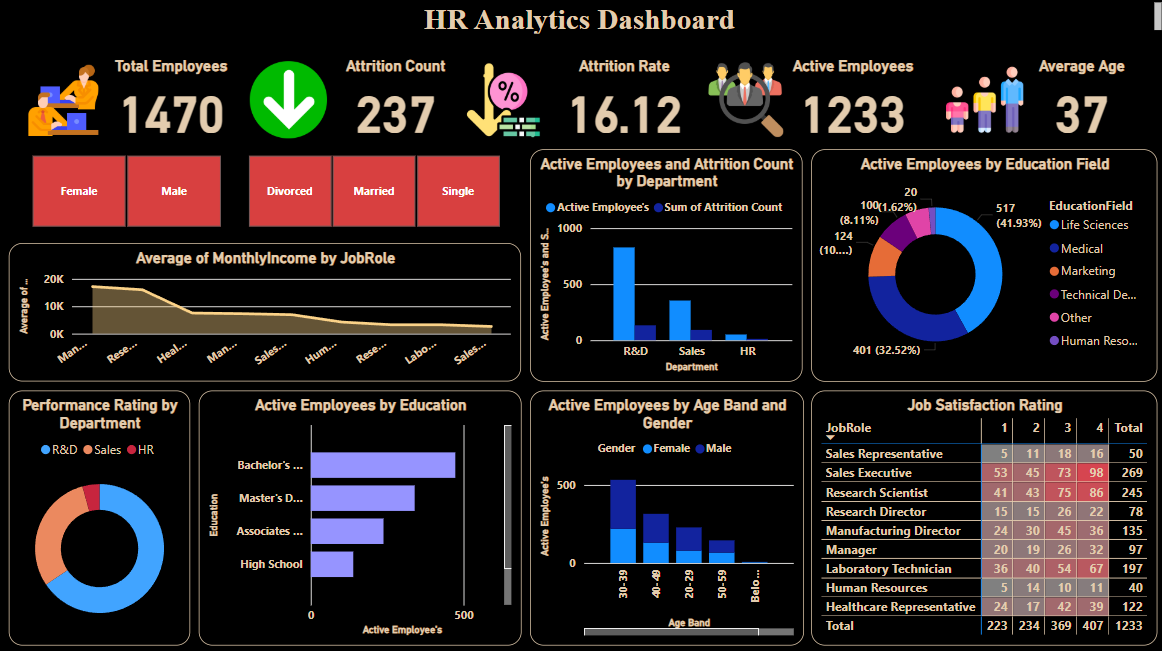

The dashboard page shown, as its layout file describes it:
{"tool":"powerbi","page":{"name":"Page 1","canvas":[1280,720],"ordinal":0},"visuals":[{"type":"card","title":"Total Employees","fields":{"Values":["Sum(HR_Analytics.EmployeeCount)"]},"box":[109.8,64.5,156.4,94.7],"z":0,"group":"g1"},{"type":"clusteredColumnChart","title":"Active Employees and Attrition Count by Department","fields":{"Category":["HR_Analytics.Department"],"Y":["HR_Analytics.Active Employee's","Sum(HR_Analytics.Attrition Count)"]},"box":[581.8,166,299.1,255.2],"z":0},{"type":"card","title":"Attrition Count","fields":{"Values":["Sum(HR_Analytics.Attrition Count)"]},"box":[351.3,64.5,166,94.7],"z":1000,"group":"g1"},{"type":"donutChart","title":"Active Employees by Education Field","fields":{"Y":["HR_Analytics.Active Employee's"],"Category":["HR_Analytics.EducationField"]},"box":[890.6,166,380.1,255.2],"z":1000},{"type":"card","title":"Attrition Rate","fields":{"Values":["HR_Analytics.Attrition Rate"]},"box":[602.4,64.5,166,94.7],"z":2000,"group":"g1"},{"type":"columnChart","title":"Active Employees by Age Band and Gender","fields":{"Category":["HR_Analytics.Age Band"],"Y":["HR_Analytics.Active Employee's"],"Series":["HR_Analytics.Gender"]},"box":[581.8,430.9,300.5,279.9],"z":2000},{"type":"card","title":"Active Employees","fields":{"Values":["HR_Analytics.Active Employee's"]},"box":[853.5,64.5,166,94.7],"z":3000,"group":"g1"},{"type":"pivotTable","title":"Job Satisfaction Rating","fields":{"Rows":["HR_Analytics.JobRole"],"Columns":["HR_Analytics.JobSatisfaction"],"Values":["HR_Analytics.Active Employee's"]},"box":[890.6,430.9,380.1,279.9],"z":3000},{"type":"card","title":"Average Age","fields":{"Values":["Avg(HR_Analytics.Age)"]},"box":[1104.7,64.5,166,94.7],"z":4000,"group":"g1"},{"type":"donutChart","title":" Performance Rating by Department","fields":{"Y":["Sum(HR_Analytics.PerformanceRating)"],"Category":["HR_Analytics.Department"]},"box":[9.6,430.9,199,279.9],"z":4000},{"type":"clusteredBarChart","title":"Active Employees by Education","fields":{"Category":["HR_Analytics.Education"],"Y":["HR_Analytics.Active Employee's"]},"box":[218.2,430.9,354,279.9],"z":5000},{"type":"areaChart","fields":{"Category":["HR_Analytics.JobRole"],"Y":["Avg(HR_Analytics.MonthlyIncome)"]},"box":[9.6,269,562.6,152.3],"z":6000},{"type":"slicer","fields":{"Values":["HR_Analytics.Gender"]},"box":[9.6,166,256.6,91.9],"z":7000},{"type":"slicer","fields":{"Values":["HR_Analytics.MaritalStatus"]},"box":[247,166,325.2,91.9],"z":8000},{"type":"group","id":"g1","title":"Group 1","box":[109.8,64.5,1160.9,94.7],"z":9000},{"type":"image","box":[768.4,64.5,100.2,94.7],"z":10000},{"type":"image","box":[502.2,64.5,100.2,94.7],"z":11000},{"type":"image","box":[266.2,64.5,100.2,94.7],"z":12000},{"type":"image","box":[1030.5,64.5,100.2,94.7],"z":13000},{"type":"image","box":[19.2,64.5,100.2,94.7],"z":14000},{"type":"textbox","box":[0,0,1280.3,43.9],"z":15000}]}

Visuals, with their boxes in screenshot pixels (x1, y1, x2, y2), scaled from the page's 1280x720 canvas onto the 1162x651 screenshot:
"Total Employees" card: (x1=100, y1=58, x2=242, y2=144)
"Active Employees and Attrition Count by Department" clusteredColumnChart: (x1=528, y1=150, x2=800, y2=381)
"Attrition Count" card: (x1=319, y1=58, x2=470, y2=144)
"Active Employees by Education Field" donutChart: (x1=808, y1=150, x2=1154, y2=381)
"Attrition Rate" card: (x1=547, y1=58, x2=698, y2=144)
"Active Employees by Age Band and Gender" columnChart: (x1=528, y1=390, x2=801, y2=643)
"Active Employees" card: (x1=775, y1=58, x2=926, y2=144)
"Job Satisfaction Rating" pivotTable: (x1=808, y1=390, x2=1154, y2=643)
"Average Age" card: (x1=1003, y1=58, x2=1154, y2=144)
" Performance Rating by Department" donutChart: (x1=9, y1=390, x2=189, y2=643)
"Active Employees by Education" clusteredBarChart: (x1=198, y1=390, x2=519, y2=643)
areaChart - HR_Analytics.JobRole x Avg(HR_Analytics.MonthlyIncome): (x1=9, y1=243, x2=519, y2=381)
slicer - HR_Analytics.Gender: (x1=9, y1=150, x2=242, y2=233)
slicer - HR_Analytics.MaritalStatus: (x1=224, y1=150, x2=519, y2=233)
"Group 1" group: (x1=100, y1=58, x2=1154, y2=144)
image: (x1=698, y1=58, x2=789, y2=144)
image: (x1=456, y1=58, x2=547, y2=144)
image: (x1=242, y1=58, x2=333, y2=144)
image: (x1=936, y1=58, x2=1026, y2=144)
image: (x1=17, y1=58, x2=108, y2=144)
textbox: (x1=0, y1=0, x2=1161, y2=40)
